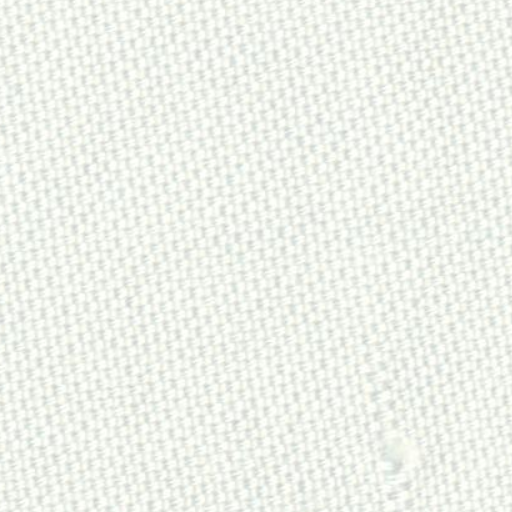PoDong: (350, 418, 446, 482)
